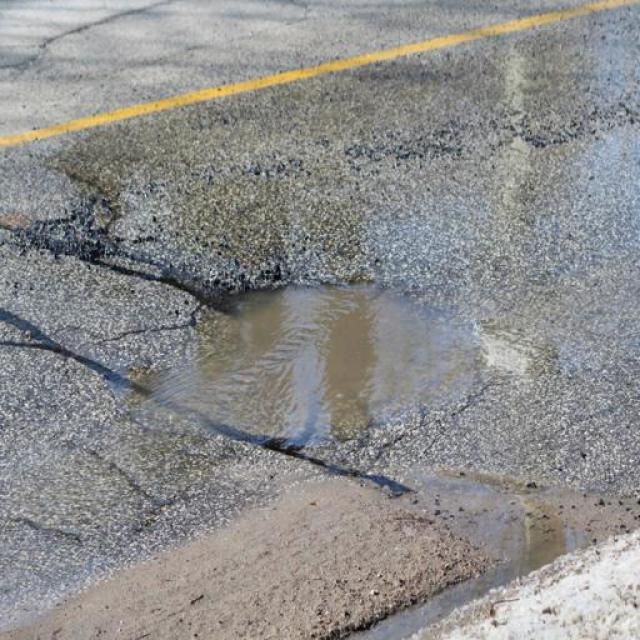puddle: (195, 267, 487, 489)
